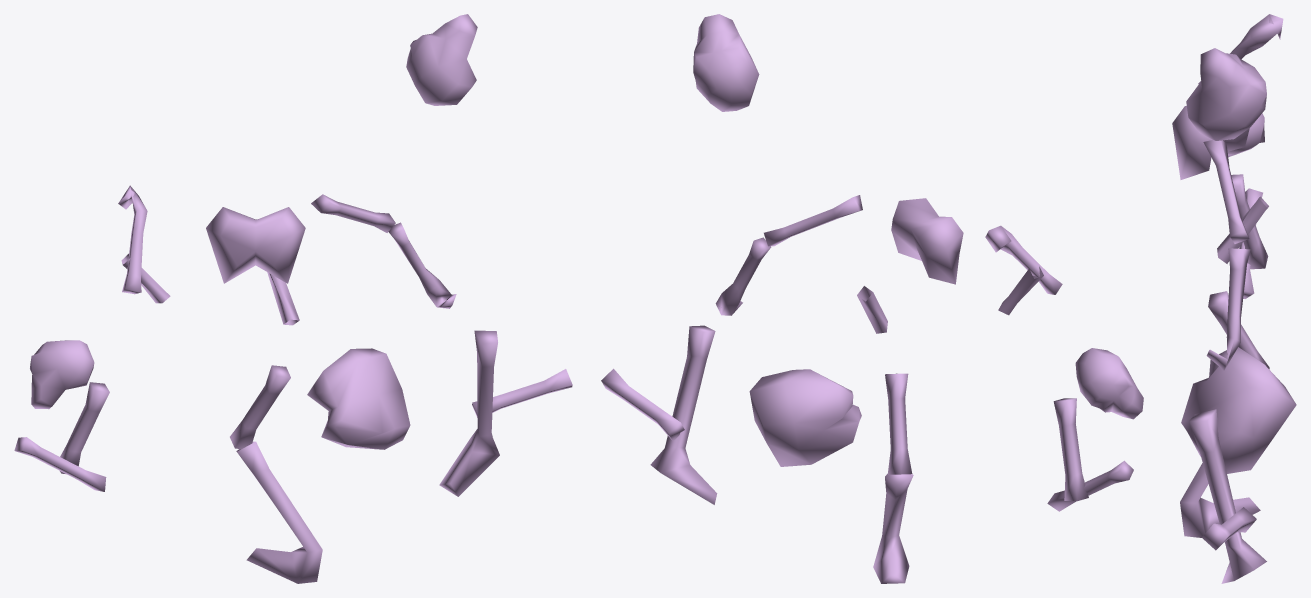
The picture shows the model from 3 angles, left to right: view 1: azimuth 30°, elevation 25°; view 2: azimuth 150°, elevation 25°; view 3: azimuth 270°, elevation 25°; orthographic projection. The views are drawn at different scales.
Visible parts, largest first — view 1: Object34; view 2: Object34; view 3: Object34.
Boxes of the visible parts, x1,y1,x2,y2 form: Object34: (14,14,572,583); Object34: (601,14,1143,583); Object34: (1172,14,1296,583).
Bounding box in the file's own units: 22730 × 20856 × 4108.
